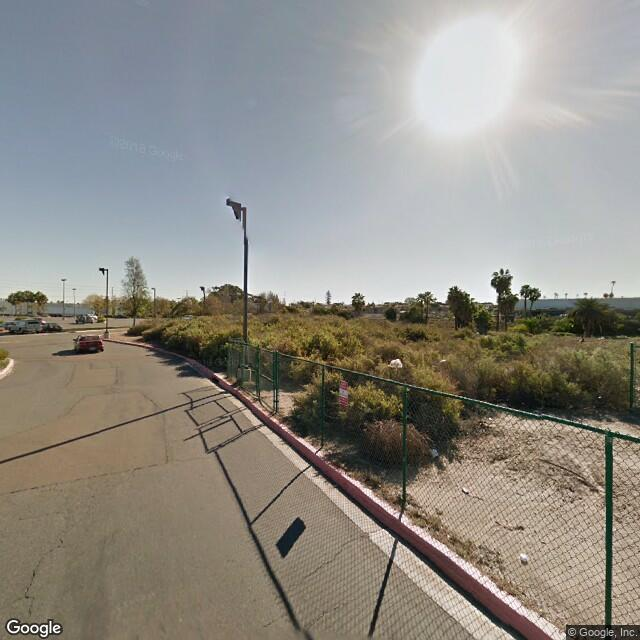litter: (395, 492, 413, 506), (516, 547, 530, 564), (388, 358, 405, 368), (427, 447, 441, 457), (460, 484, 473, 493)
